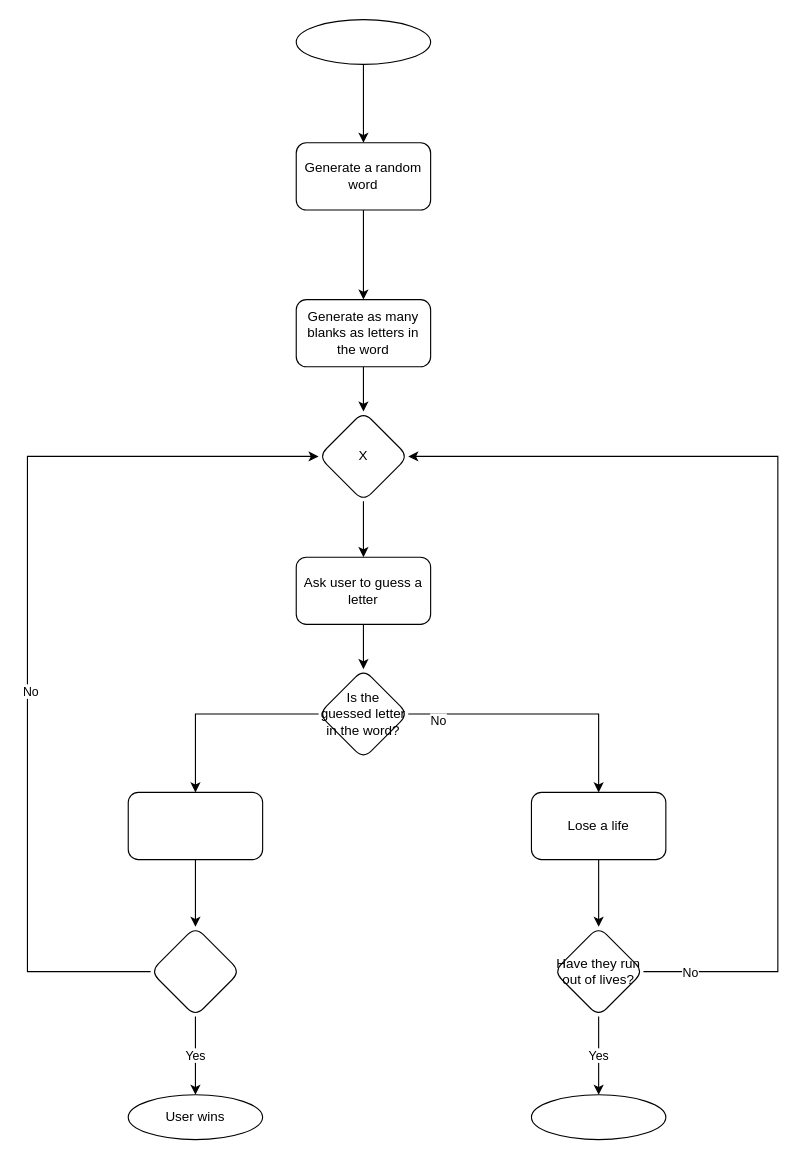
This 806x1159 diagram has some shape labels left out. Each missing label, with the centre of its shape:
"Are all blanks filled?" goes at point (195, 971).
"Game Over" goes at point (598, 1117).
"Replace the blank with the word" goes at point (195, 825).
"Start" goes at point (363, 41).
